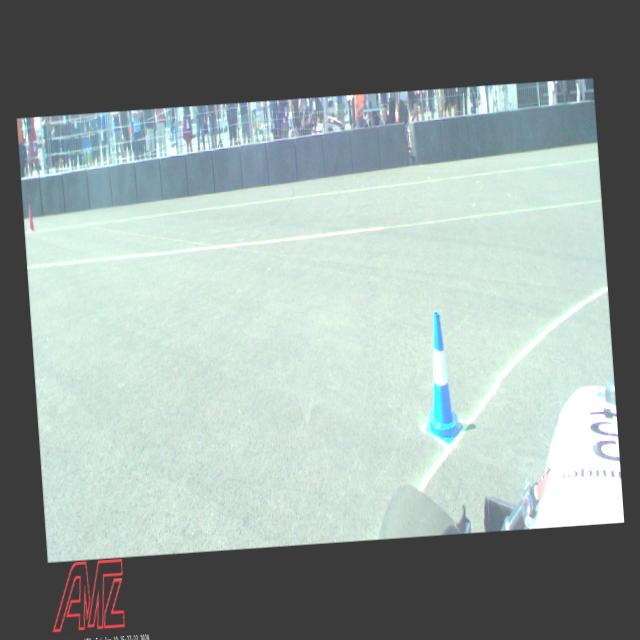blue_cone: (418, 310, 462, 444)
orange_cone: (26, 205, 35, 230)
